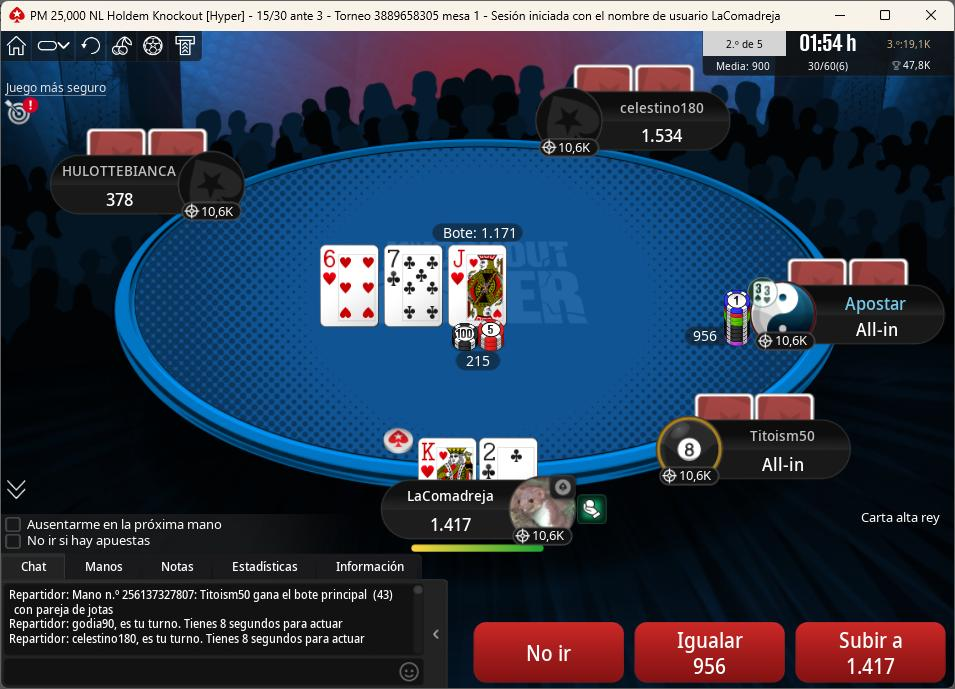ButtonCall: (631, 621, 787, 688)
ButtonFold: (471, 616, 628, 687)
ButtonRaise: (792, 619, 947, 687)
Dealer: (379, 424, 418, 458)
HiddenCards: (82, 131, 208, 161), (693, 392, 818, 422), (786, 257, 911, 286), (573, 66, 698, 95)
Player: (745, 281, 945, 351), (654, 419, 852, 488), (48, 152, 246, 218), (542, 93, 732, 159)
PlayerBet: (683, 280, 756, 358)
PlayerChips: (757, 450, 814, 477), (850, 318, 908, 340), (639, 126, 692, 144), (98, 190, 140, 211)
Pot: (432, 222, 528, 243)
PrincipalCards: (415, 437, 540, 484)
PrincipalCards1: (418, 436, 478, 483)
PrincipalCards2: (478, 434, 539, 482)
PrincipalPlayer: (380, 475, 577, 548)
PrincipalPlayerChips: (425, 513, 478, 536)
ShowedCards: (314, 242, 512, 334)
ShowedCards1: (317, 239, 383, 330)
ShowedCards2: (380, 241, 446, 331)
ShowedCards3: (444, 242, 510, 331)
SmallBigBlind: (246, 4, 334, 26)
TablePot: (444, 319, 525, 377)
